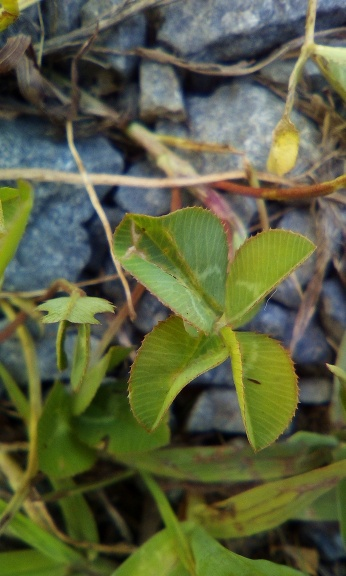4leaf: (111, 205, 318, 454)
